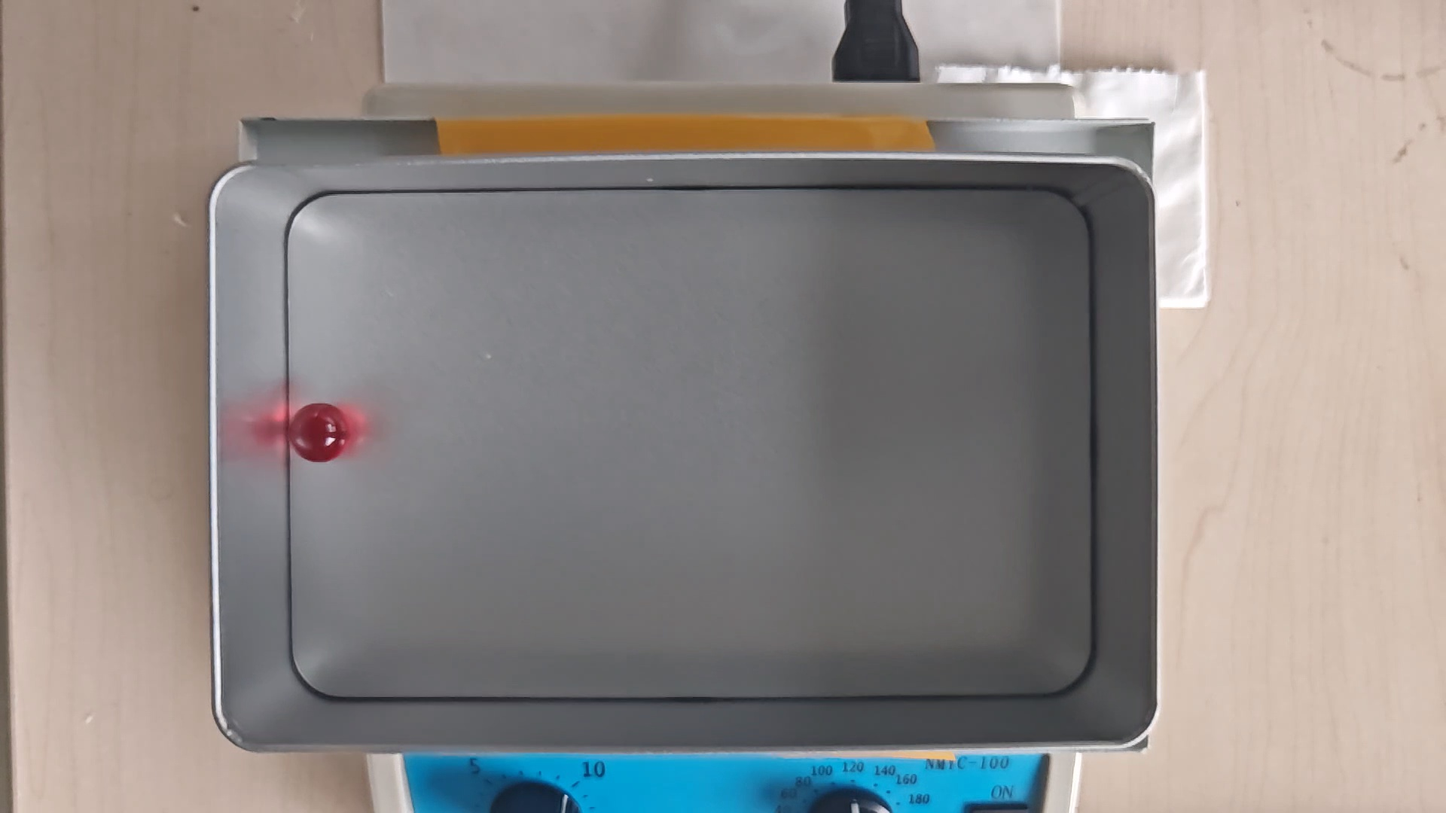ball: (288, 403, 350, 464)
container: (286, 190, 1099, 698)
